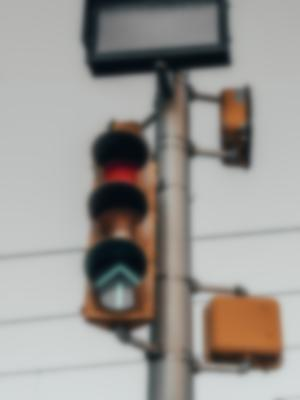International Road Signal Light: (84, 114, 159, 327)
